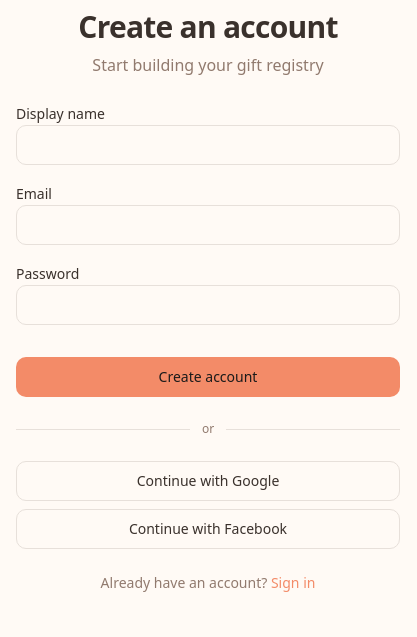
Test: RegisterPage › requires CAPTCHA completion before submitting
Type "Alice" into the field labelled "Display name" at (208, 145), box [16,125,400,165]
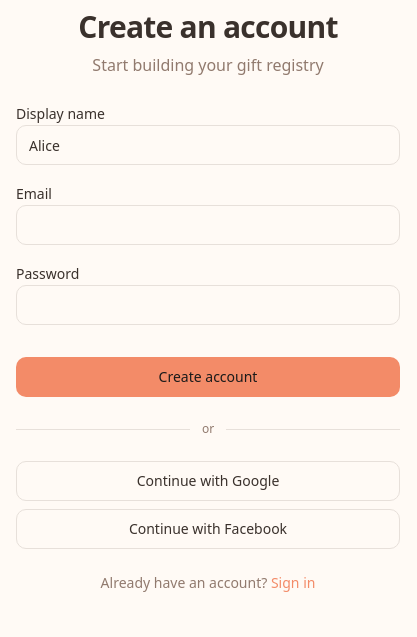
Type "a@b.com" into the field labelled "Email" at (208, 225), box [16,205,400,245]
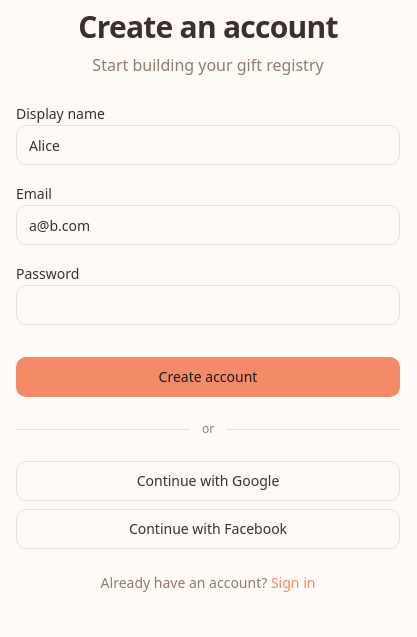
Type "password123" into the password field labelled "Password" at (208, 305), box [16,285,400,325]
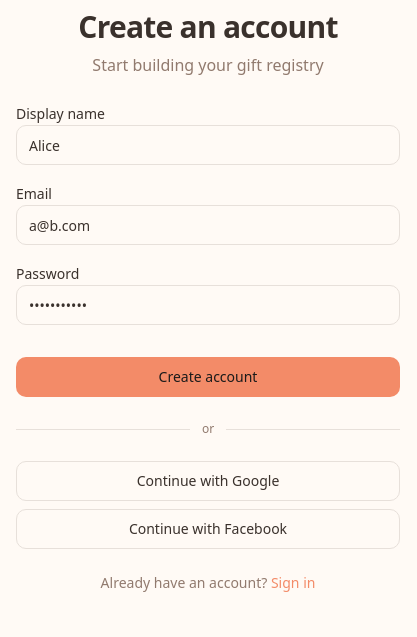
Click the button "Create account" at (208, 377), box [16,357,400,397]
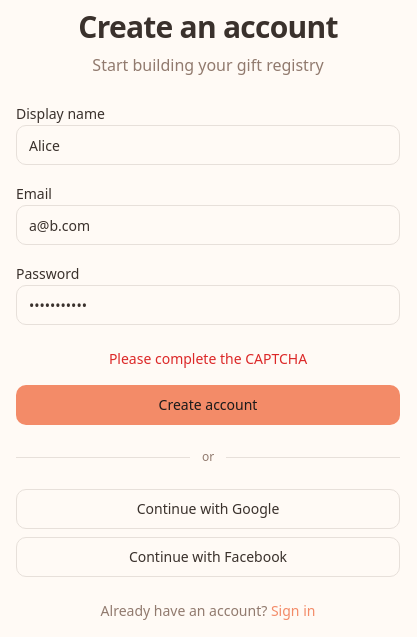
Now the text "Please complete the CAPTCHA" is shown, box [109,349,307,368]
